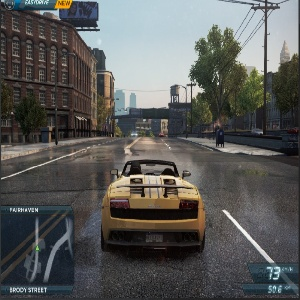building: (11, 12, 115, 134)
lamp post: (54, 49, 82, 146)
mailbox: (212, 130, 227, 149)
road sign: (143, 107, 168, 119)
tree: (195, 37, 245, 125), (14, 94, 45, 149), (273, 62, 300, 125), (195, 76, 218, 128)
